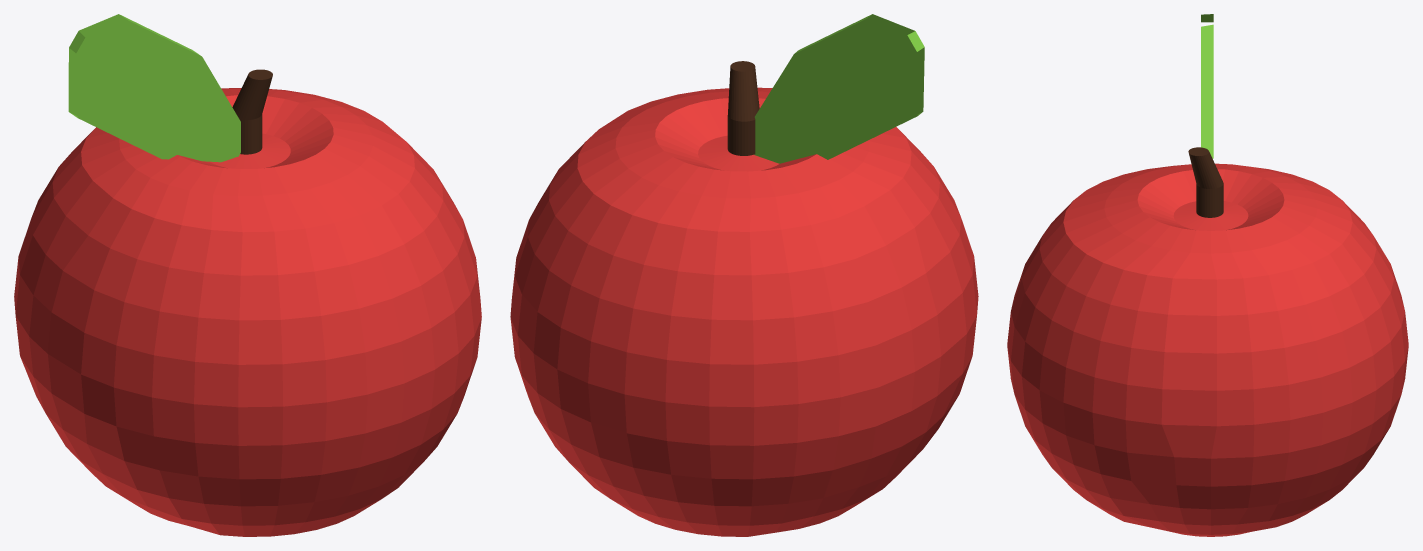
File: apple.glb
3 views of the same model, side by side, from view 1: azimuth 30°, elevation 25°; view 2: azimuth 150°, elevation 25°; view 3: azimuth 270°, elevation 25° (orthographic). The views are drawn at different scales.
Visible parts, largest first — view 1: Sphere; view 2: Sphere; view 3: Sphere.
Part boxes in pixels (x1,y1,x2,y2): Sphere: (14, 14, 481, 536); Sphere: (510, 14, 978, 536); Sphere: (1007, 14, 1408, 536).
Size of the model in its own units: 2 by 2.52 by 2.09.
